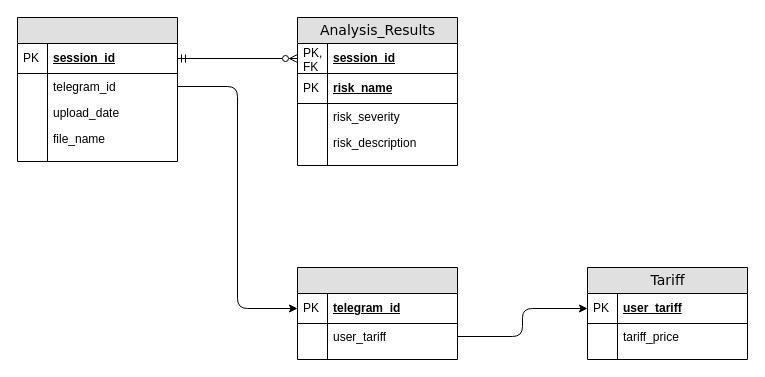
This 765x377 diagram has some shape labels left out. Here are the shapes that lost their labels. From the top down, the box of each, then its label:
(16, 16, 178, 162): Sessions
(296, 266, 458, 360): Users
